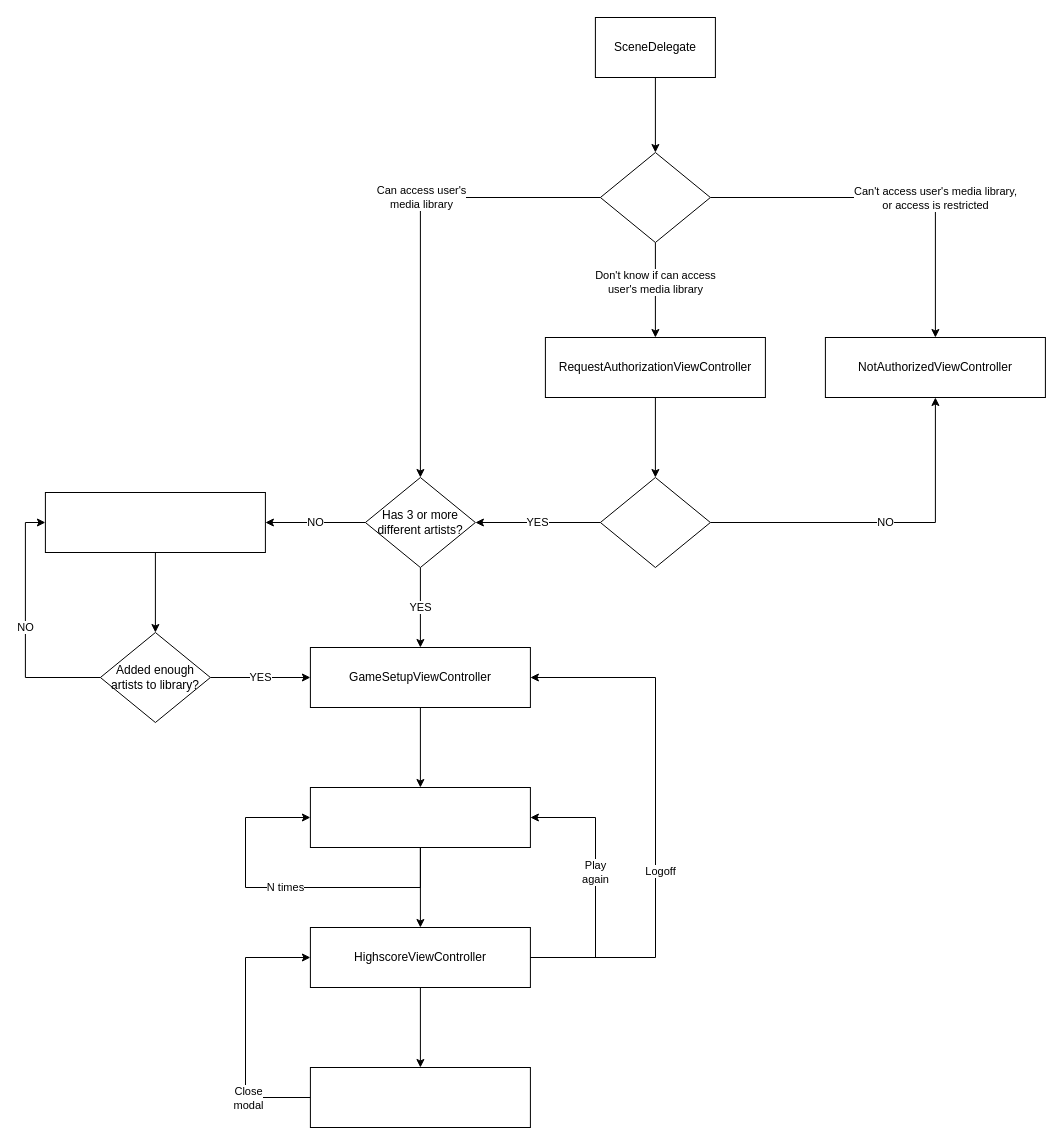
The diagram is 1063 pixels wide and 1145 high, and some of its shapes have lost their labels. Each missing label, with the box of its shape:
Authorized access?: (599, 476, 710, 568)
GameTableViewController: (309, 786, 530, 848)
NotEnoughArtistsViewController: (44, 492, 265, 552)
ProfileViewController: (309, 1066, 530, 1128)
